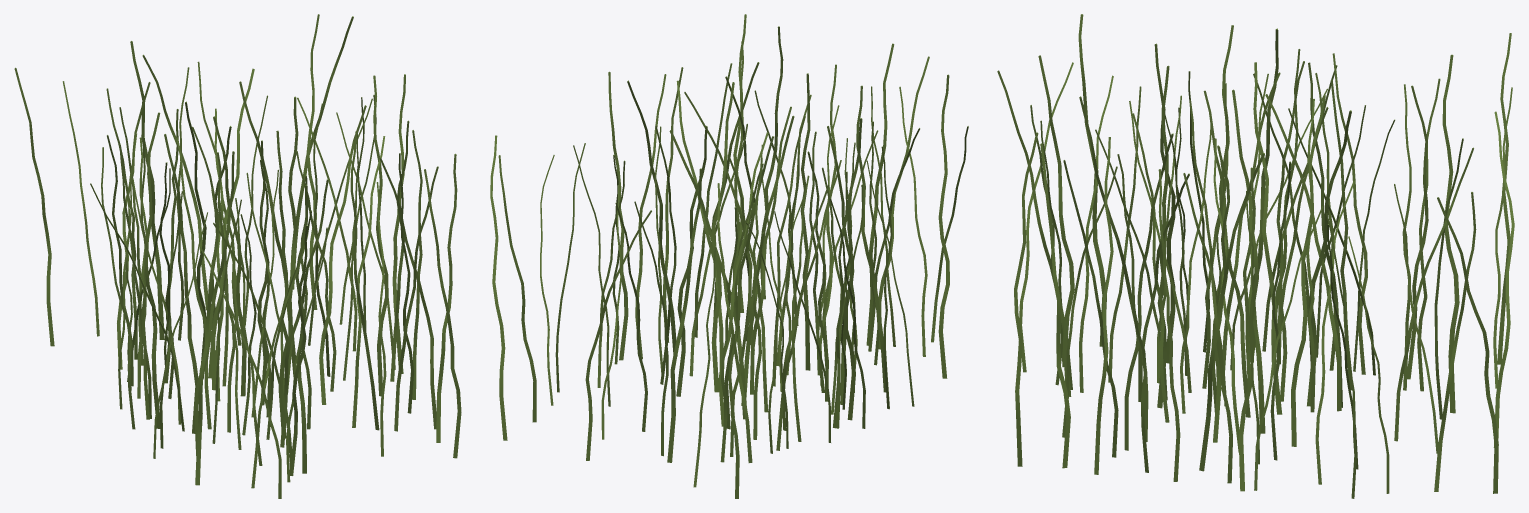
File: plant_swamp_algea_long_straight_light_A.fbx
The picture shows the model from 3 angles, left to right: view 1: azimuth 30°, elevation 25°; view 2: azimuth 150°, elevation 25°; view 3: azimuth 270°, elevation 25°; orthographic projection. The views are drawn at different scales.
Parts seen in each view (by area): view 1: plant_swamp_algea_long_straight_light_A; view 2: plant_swamp_algea_long_straight_light_A; view 3: plant_swamp_algea_long_straight_light_A.
Part boxes in pixels (<box>): plant_swamp_algea_long_straight_light_A: <box>14,14,461,498</box>; plant_swamp_algea_long_straight_light_A: <box>490,14,968,498</box>; plant_swamp_algea_long_straight_light_A: <box>997,14,1514,498</box>.
Bounding box in the file's own units: 285 × 263 × 361.
